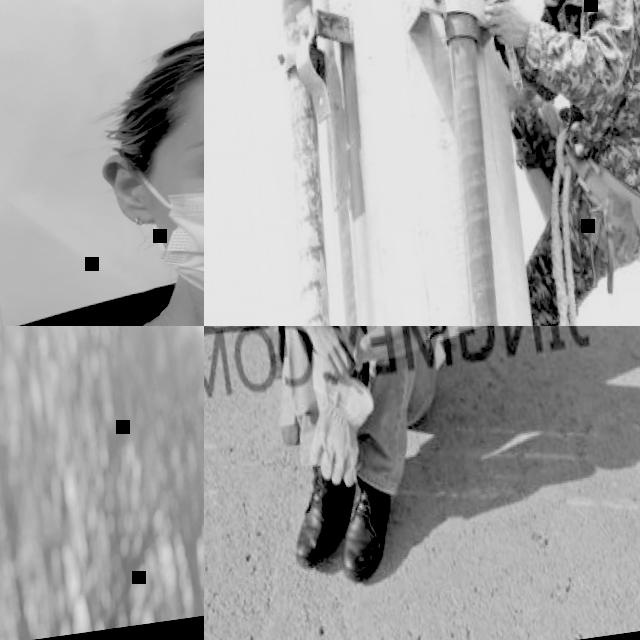Mask: (138, 113, 204, 323)
NO-Hardhat: (126, 0, 204, 122)
NO-Safety Vest: (538, 0, 640, 189)
Person: (225, 326, 484, 592), (0, 0, 204, 326), (464, 0, 640, 326)
Safety Vest: (300, 326, 446, 386)
